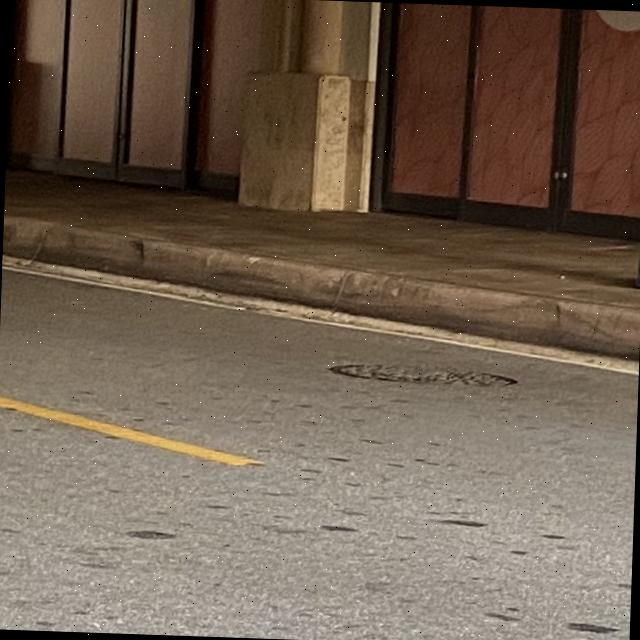curb: (2, 217, 640, 360)
